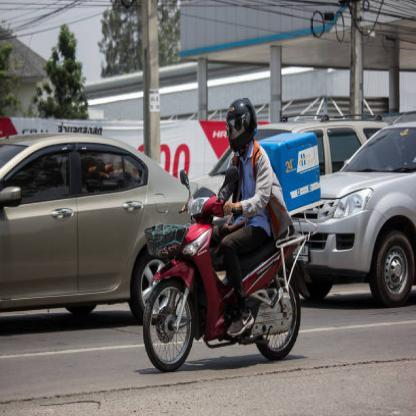Motorcycle: (133, 188, 310, 362)
